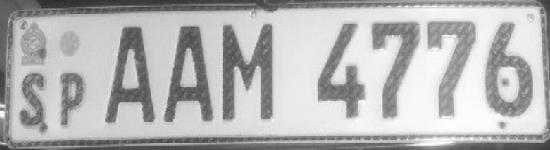4: (306, 14, 366, 122)
6: (484, 16, 541, 123)
7: (368, 19, 425, 131), (426, 17, 482, 131)
A: (101, 24, 161, 131), (165, 19, 220, 132)
M: (221, 20, 284, 130)
P: (58, 67, 94, 131)
S: (13, 65, 55, 134)
